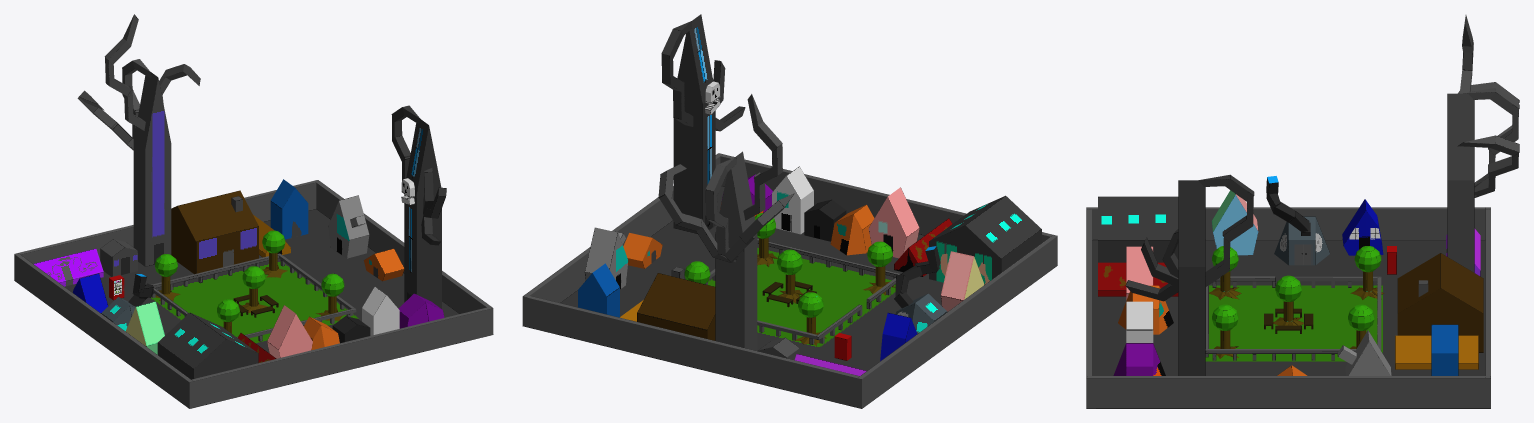
Rendered from mahalle.gltf.
3 views of the same model, side by side, from view 1: azimuth 30°, elevation 25°; view 2: azimuth 150°, elevation 25°; view 3: azimuth 270°, elevation 25° (orthographic). The views are drawn at different scales.
Parts seen in each view (by area): view 1: cuboid (×25), plane, sphere (×3), tree; view 2: cuboid (×31), plane, sphere (×3); view 3: cuboid (×34), plane, sphere (×3), tree.
Boxes of the visible parts, <box> form: cuboid (×25): <box>14,14,493,408</box>; plane: <box>65,209,459,353</box>; sphere (×3): <box>217,230,285,322</box>; tree: <box>321,273,344,296</box>; cuboid (×31): <box>522,14,1057,408</box>; plane: <box>561,186,943,370</box>; sphere (×3): <box>777,241,892,317</box>; cuboid (×34): <box>1086,43,1519,408</box>; plane: <box>1092,240,1485,375</box>; sphere (×3): <box>1275,246,1381,330</box>; tree: <box>1212,304,1238,330</box>.
Size of the model in its own units: 41.09 by 32.05 by 43.97.
1 material, 1 textured.
